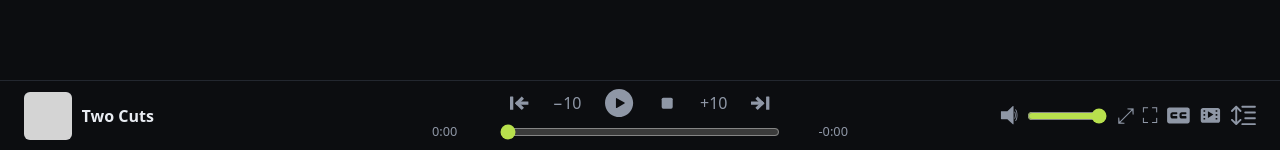
NowPlayingBar — Video menu › lists every video Stream, labelled, and marks the server-resolved one active
Click the button with test id "now-playing-video": point(1211, 116) left=1198, top=103, right=1223, bottom=128
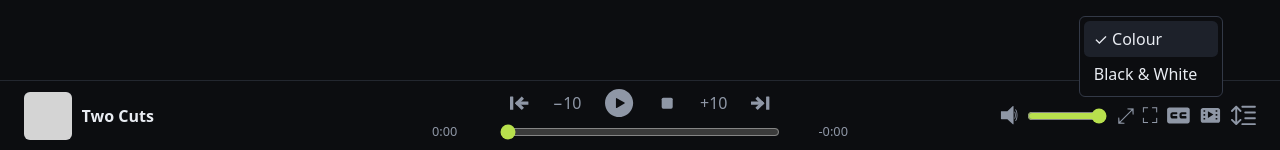
Expected: the menu with test id "now-playing-video-menu" shows "Colour", left=1084, top=21, right=1218, bottom=56
Expected: the menu with test id "now-playing-video-menu" shows "Black & White", left=1084, top=56, right=1218, bottom=92
